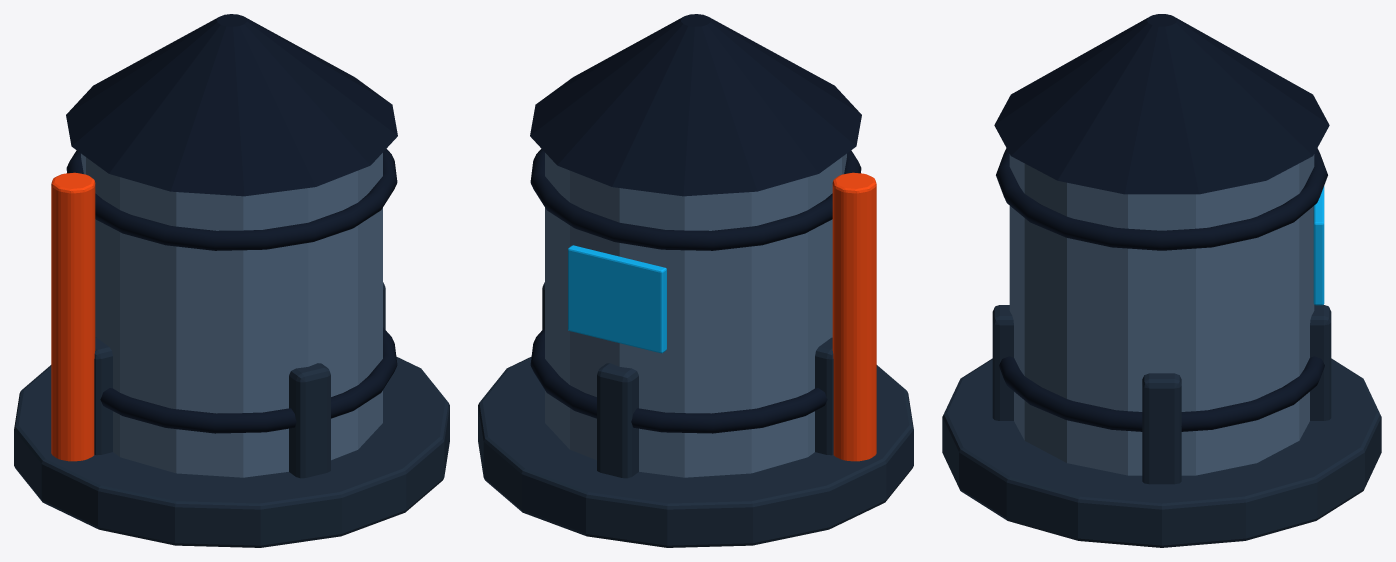
The model's file is command_resource_silo.obj.
3 views of the same model, side by side, from view 1: azimuth 30°, elevation 25°; view 2: azimuth 150°, elevation 25°; view 3: azimuth 270°, elevation 25° (orthographic).
Parts seen in each view (by area): view 1: rts_silo_tank_M_steel, rts_silo_roof_M_navy, rts_silo_foundation_M_gunmetal, rts_silo_pipe_M_orange, rts_silo_band_1_M_navy, rts_silo_band_0_M_navy, rts_silo_leg_1_M_gunmetal, rts_silo_leg_0_M_gunmetal; view 2: rts_silo_tank_M_steel, rts_silo_roof_M_navy, rts_silo_foundation_M_gunmetal, rts_silo_pipe_M_orange, rts_silo_badge_M_cyan, rts_silo_band_1_M_navy, rts_silo_band_0_M_navy, rts_silo_leg_3_M_gunmetal, rts_silo_leg_0_M_gunmetal; view 3: rts_silo_tank_M_steel, rts_silo_roof_M_navy, rts_silo_foundation_M_gunmetal, rts_silo_band_1_M_navy, rts_silo_band_0_M_navy, rts_silo_leg_2_M_gunmetal, rts_silo_leg_1_M_gunmetal, rts_silo_leg_3_M_gunmetal, rts_silo_badge_M_cyan.
Part boxes in pixels (<box>): rts_silo_tank_M_steel: <box>81,153,382,477</box>; rts_silo_roof_M_navy: <box>66,14,397,196</box>; rts_silo_foundation_M_gunmetal: <box>14,356,449,547</box>; rts_silo_pipe_M_orange: <box>51,172,95,461</box>; rts_silo_band_1_M_navy: <box>66,149,397,250</box>; rts_silo_band_0_M_navy: <box>100,327,397,433</box>; rts_silo_leg_1_M_gunmetal: <box>289,363,330,478</box>; rts_silo_leg_0_M_gunmetal: <box>94,337,112,455</box>; rts_silo_tank_M_steel: <box>545,153,846,477</box>; rts_silo_roof_M_navy: <box>530,14,861,196</box>; rts_silo_foundation_M_gunmetal: <box>478,356,913,547</box>; rts_silo_pipe_M_orange: <box>832,172,876,461</box>; rts_silo_badge_M_cyan: <box>568,245,666,353</box>; rts_silo_band_1_M_navy: <box>530,149,861,250</box>; rts_silo_band_0_M_navy: <box>530,327,827,433</box>; rts_silo_leg_3_M_gunmetal: <box>597,363,638,478</box>; rts_silo_leg_0_M_gunmetal: <box>815,337,833,455</box>; rts_silo_tank_M_steel: <box>1009,154,1314,475</box>; rts_silo_roof_M_navy: <box>994,14,1329,194</box>; rts_silo_foundation_M_gunmetal: <box>942,358,1381,547</box>; rts_silo_band_1_M_navy: <box>996,148,1327,250</box>; rts_silo_band_0_M_navy: <box>999,356,1324,431</box>; rts_silo_leg_2_M_gunmetal: <box>1142,373,1181,484</box>; rts_silo_leg_1_M_gunmetal: <box>992,305,1013,420</box>; rts_silo_leg_3_M_gunmetal: <box>1310,305,1331,420</box>; rts_silo_badge_M_cyan: <box>1313,186,1324,305</box>.
Size of the model in its own units: 1.44 by 1.58 by 1.44.
